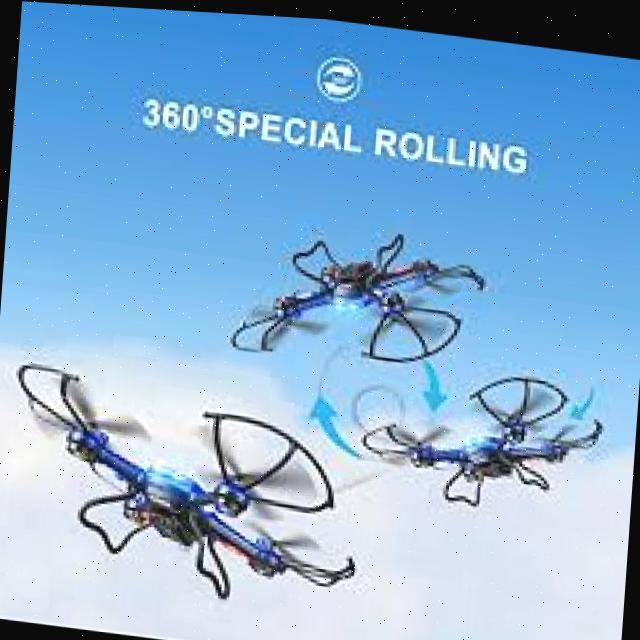drone: (0, 333, 377, 637), (348, 337, 616, 531), (232, 213, 490, 379)
